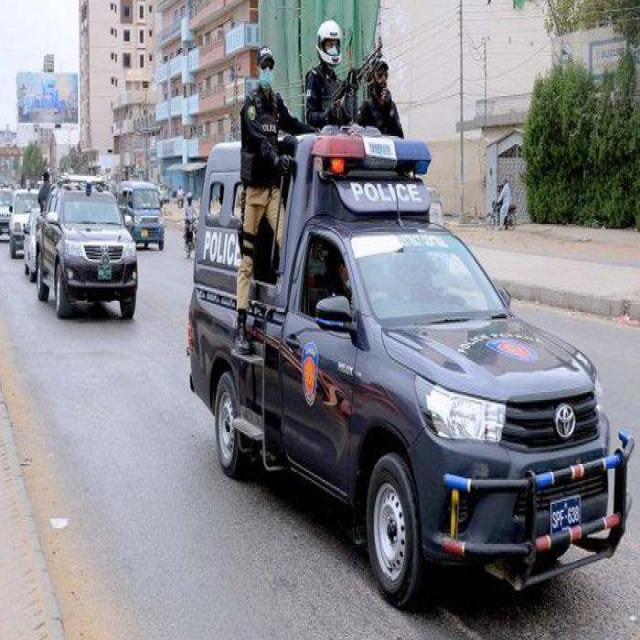fire_truck: (190, 128, 630, 619)
